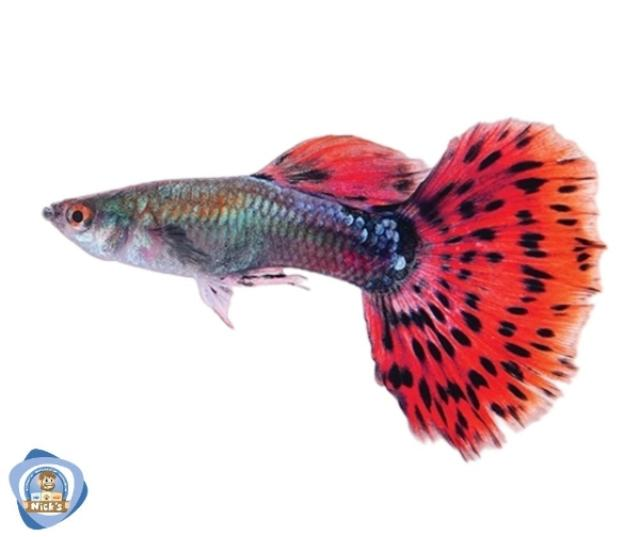Mulut: (20, 176, 78, 256)
Sirip Anal: (235, 251, 335, 303), (193, 271, 249, 337)
Sirip Dada: (140, 212, 218, 278)
Sirip Ekor: (363, 116, 605, 464), (249, 132, 437, 211)
